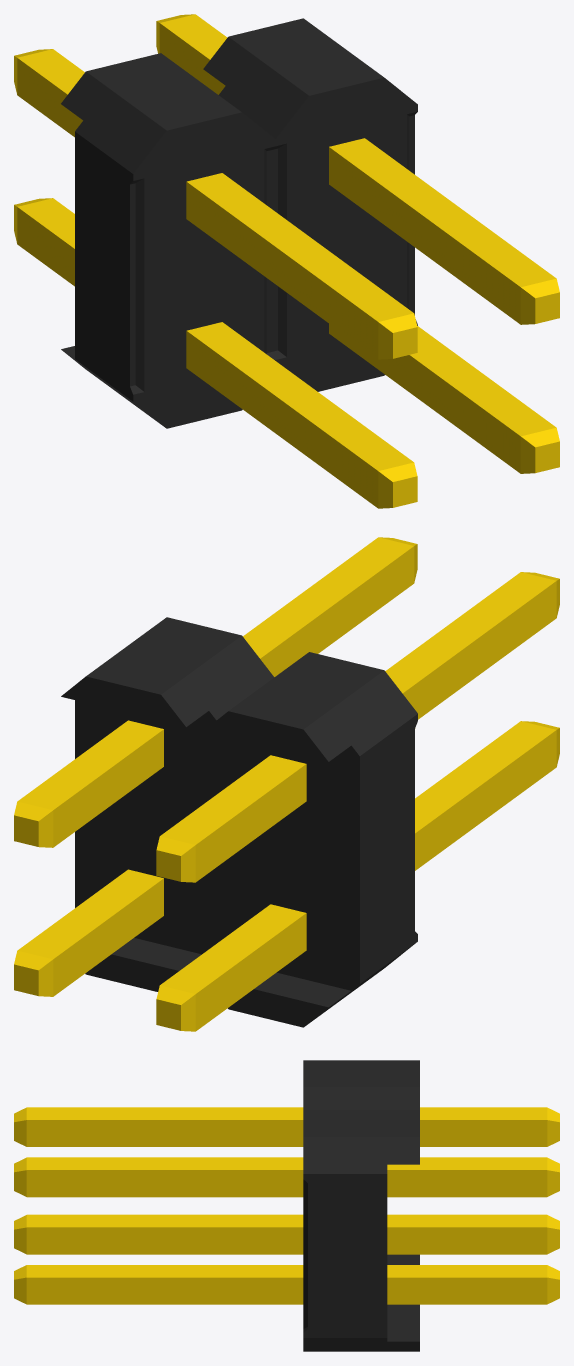
Rendered from PLD-4_(DS1021_CONNFLY).obj.
The picture shows the model from 3 angles, top to bottom: view 1: azimuth 30°, elevation 25°; view 2: azimuth 150°, elevation 25°; view 3: azimuth 270°, elevation 25°; orthographic projection. The views are drawn at different scales.
Parts seen in each view (by area): view 1: PLD-4_(DS1021_CONNFLY); view 2: PLD-4_(DS1021_CONNFLY); view 3: PLD-4_(DS1021_CONNFLY).
Part boxes in pixels (x1,y1,x2,y2): PLD-4_(DS1021_CONNFLY): (14, 14, 559, 508); PLD-4_(DS1021_CONNFLY): (14, 537, 559, 1031); PLD-4_(DS1021_CONNFLY): (14, 1060, 559, 1351).
Bounding box in the file's own units: 0.0119 × 0.0119 × 0.0273.
